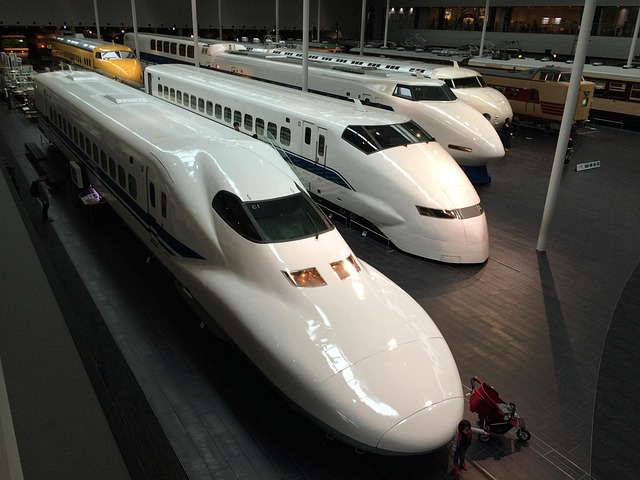train1: (31, 68, 469, 471)
train2: (144, 62, 491, 269)
train3: (220, 46, 510, 166)
train4: (280, 45, 512, 125)
